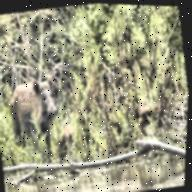boar: (2, 70, 69, 162)
